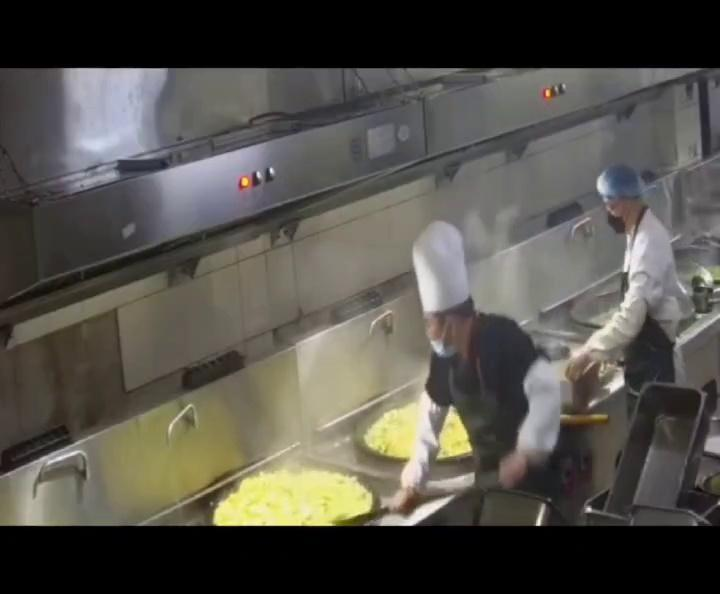mask: (424, 313, 458, 359)
